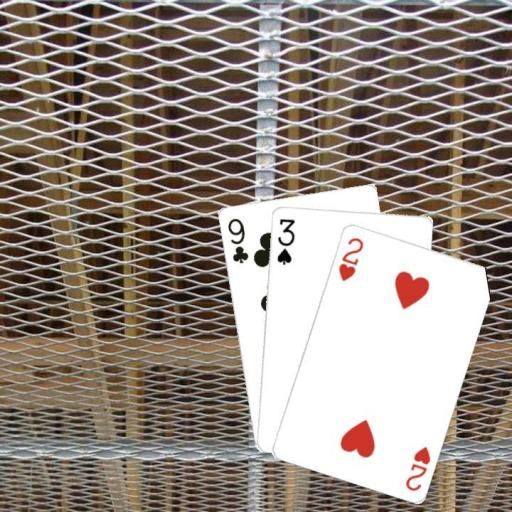2H: (402, 442, 432, 492), (335, 234, 365, 282)
3S: (273, 215, 296, 266)
9C: (224, 215, 250, 265)
